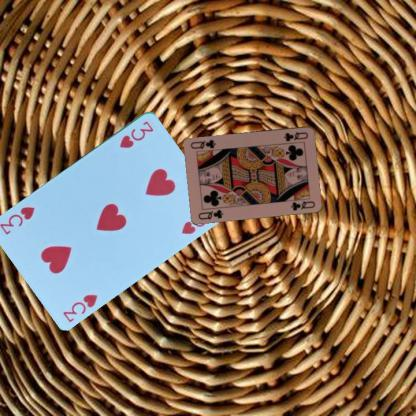3h: (60, 291, 99, 324), (117, 118, 155, 149)
Qc: (196, 207, 225, 221), (281, 130, 309, 142)
